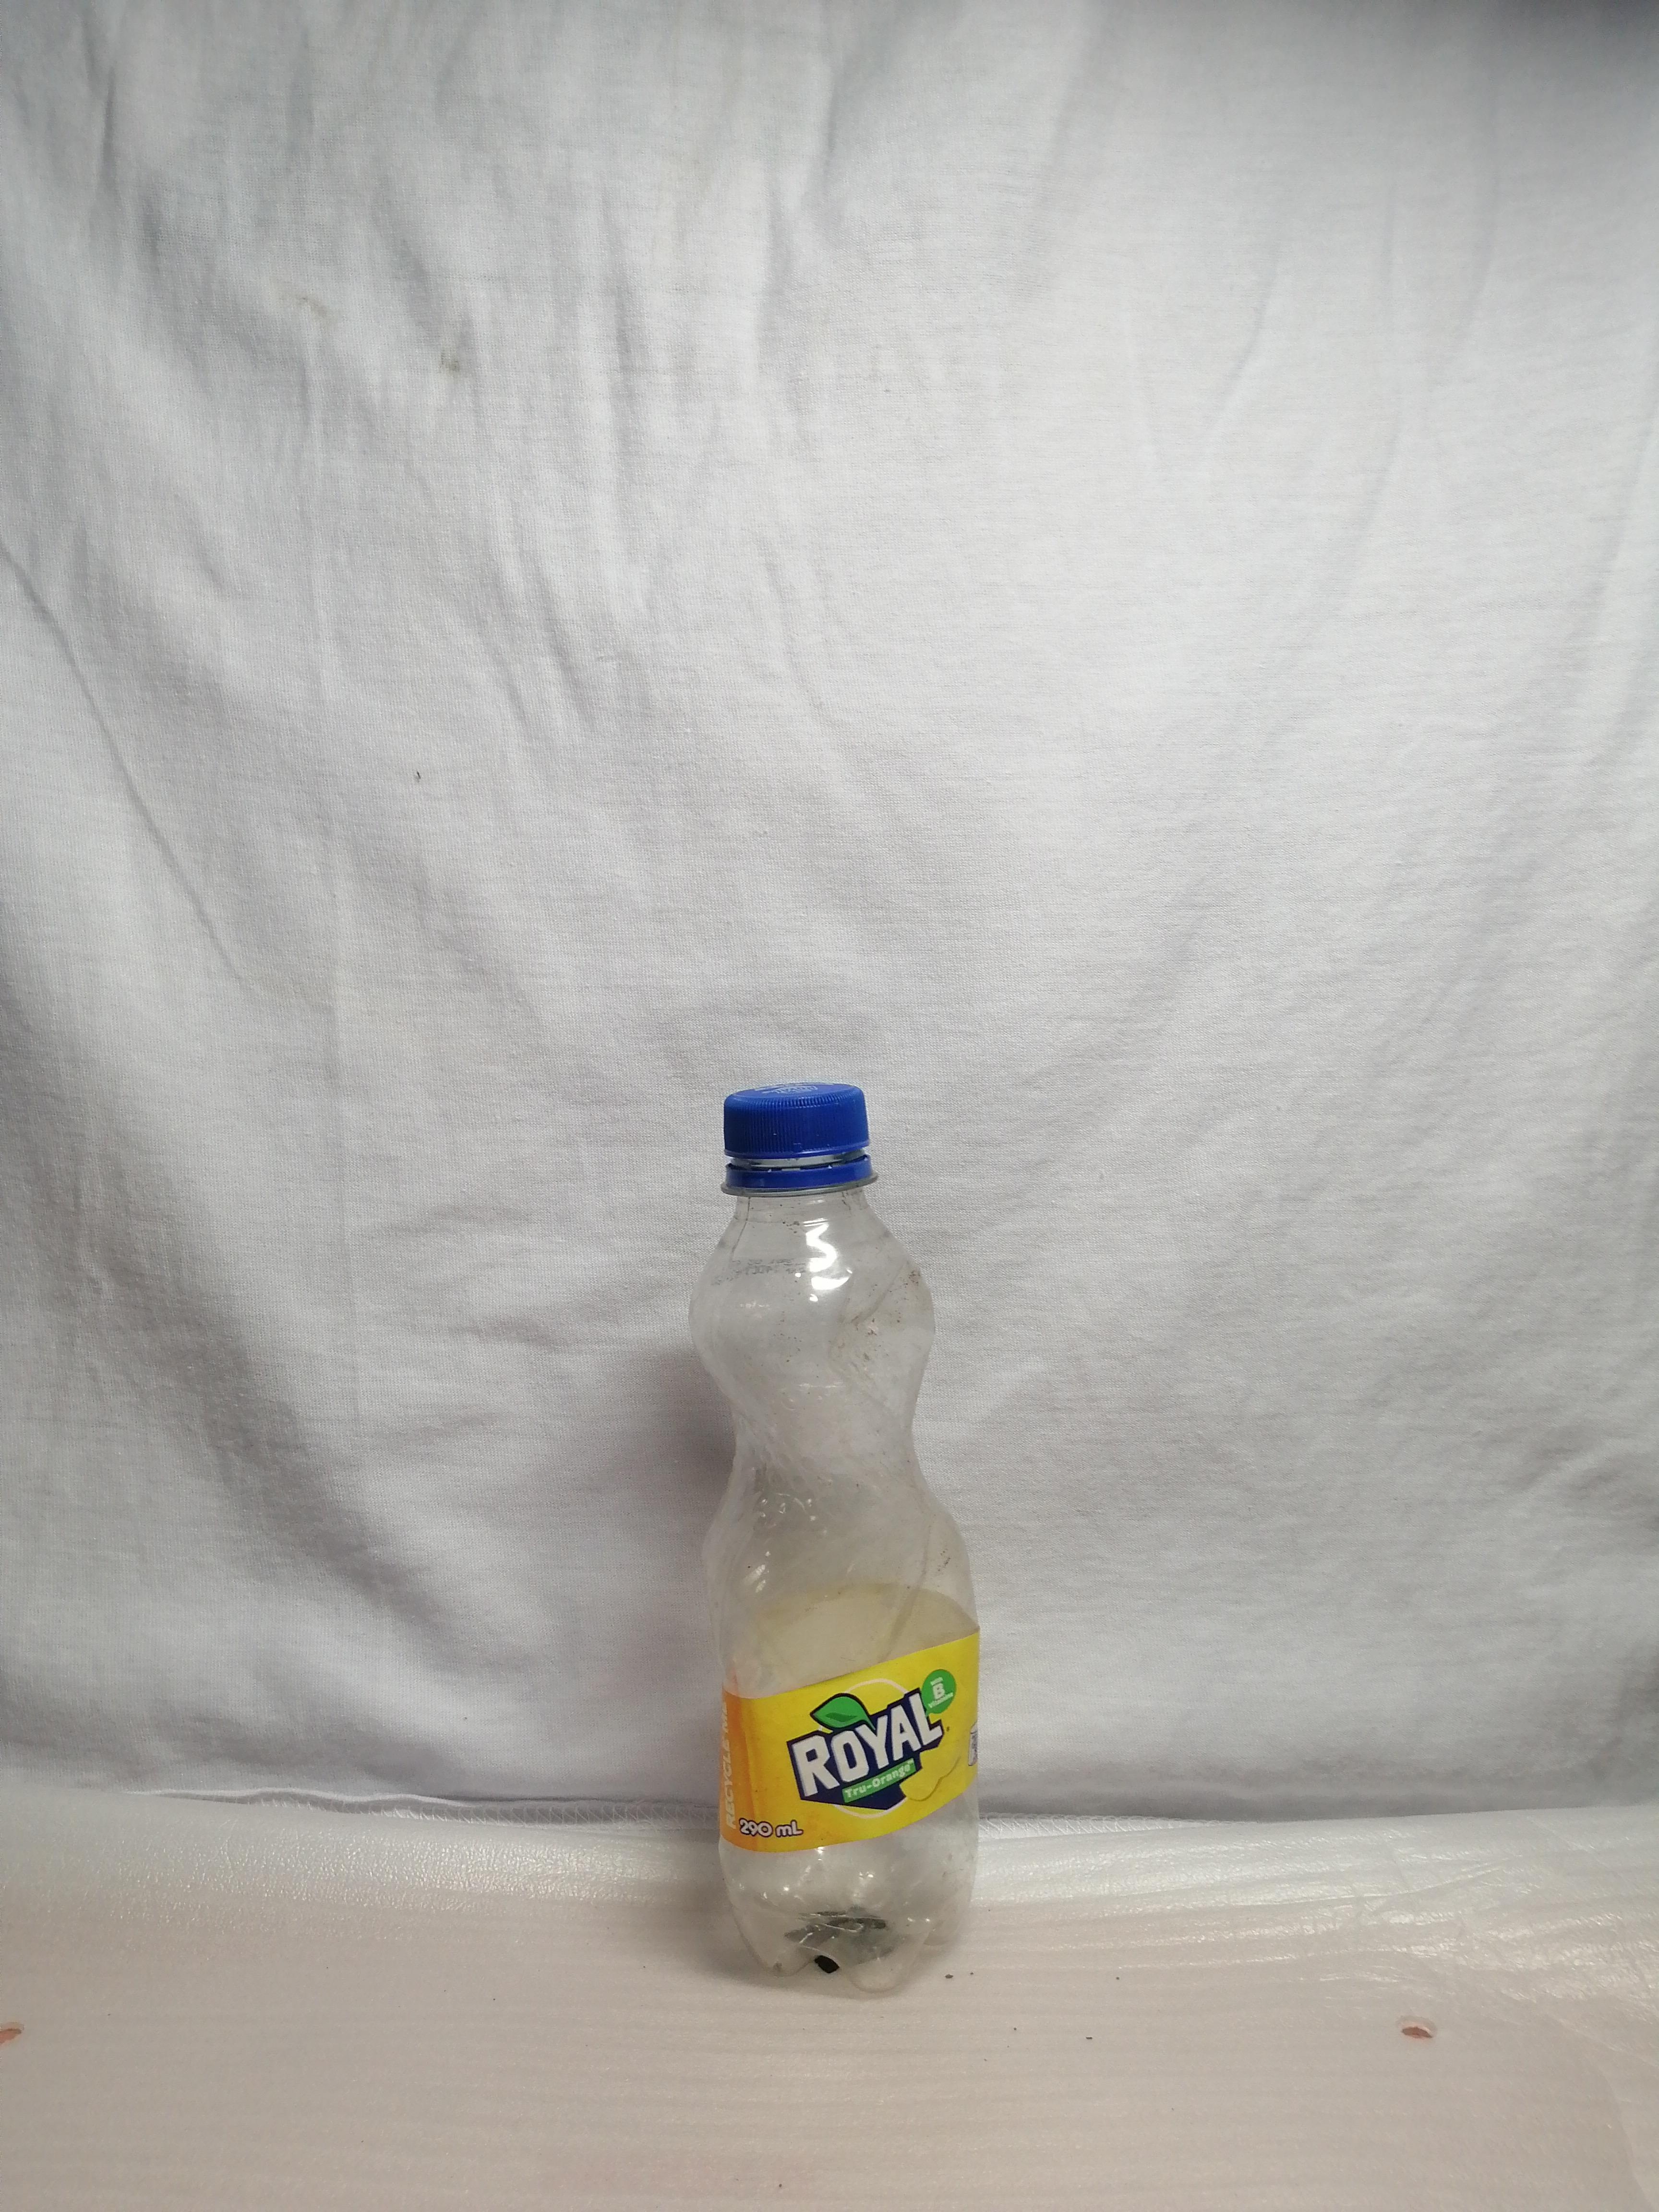plastic-bottle: (605, 1042, 1037, 2093)
